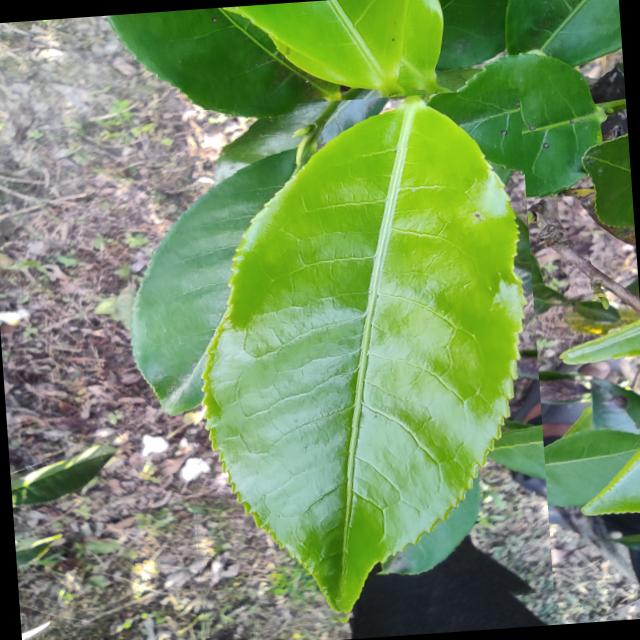Category B(2-4 days): (164, 87, 555, 637)
